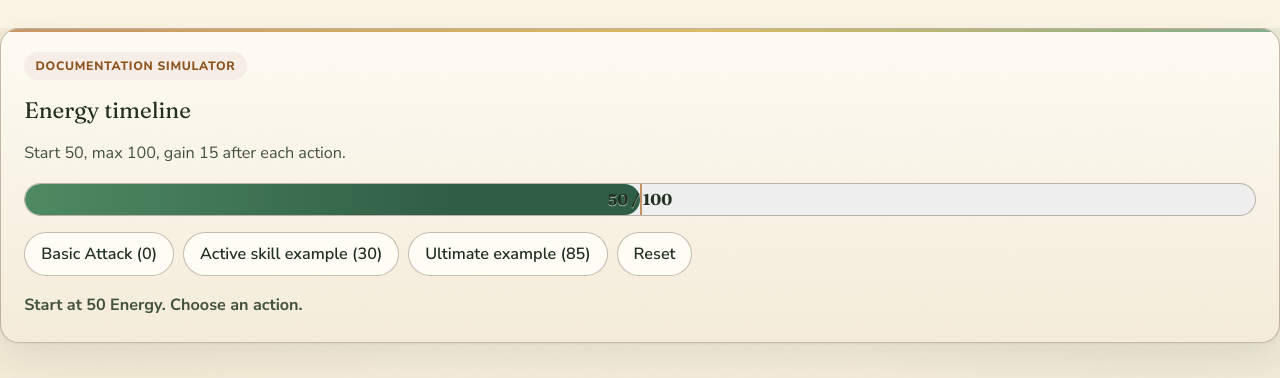
Test: interactive calculators › handles insufficient energy
Click the button "Ultimate example (85)".
click(508, 254)  # box 408,232 -> 608,276
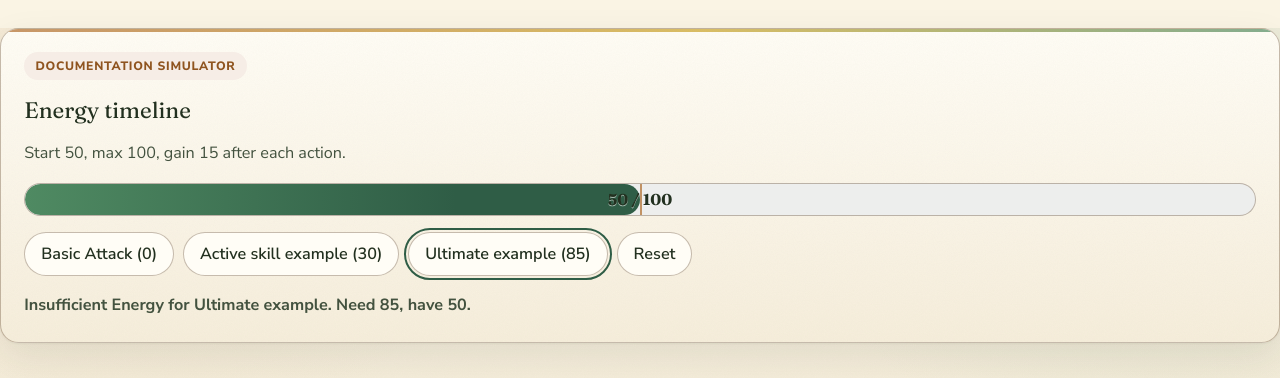
Expected: the text "Insufficient Energy for Ultimate example. Need 85, have 50." is shown, 24,294 -> 471,316
